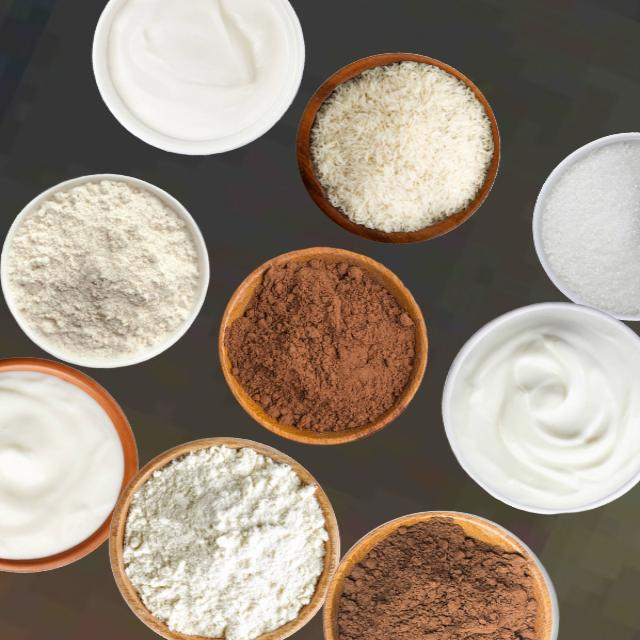Cocoa: (223, 250, 420, 436), (331, 514, 550, 639)
Coffee: (533, 131, 639, 319)
Flour: (122, 443, 328, 639), (5, 177, 199, 361)
